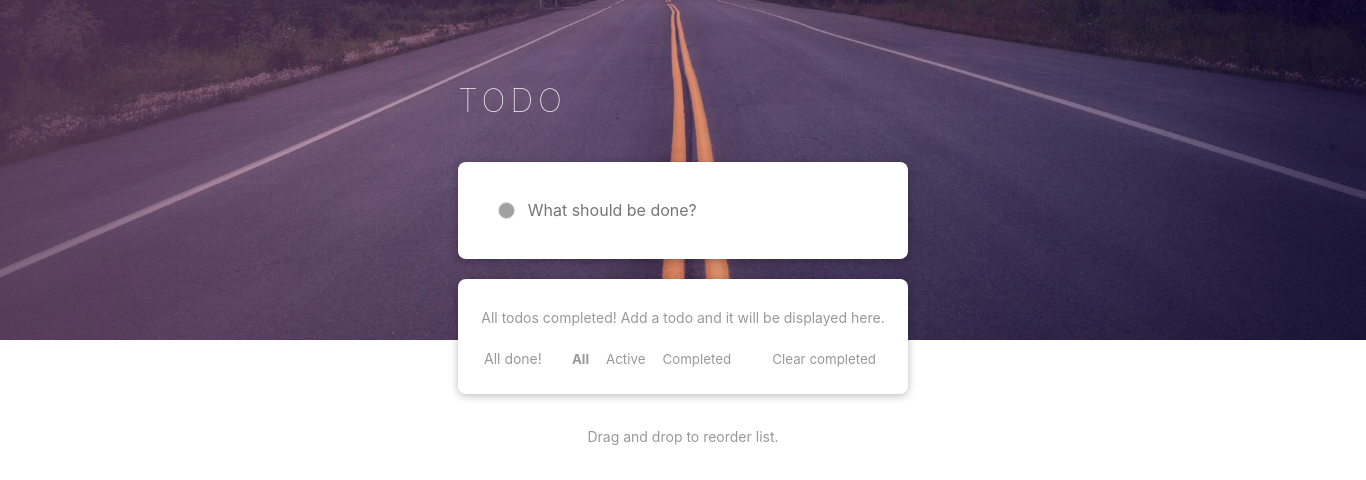
Scenario: create todo spec › should create a todo
Type "First Todo" into the field named "todo-input" at [698, 211], box [525,198,870,223]
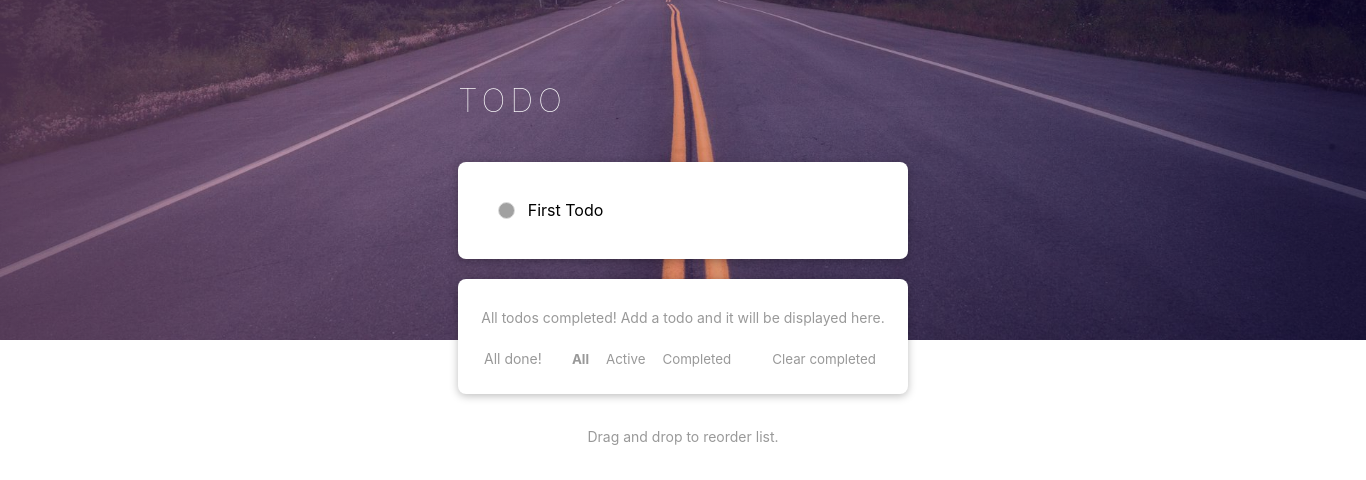
Submit the form, box [498,198,870,223]
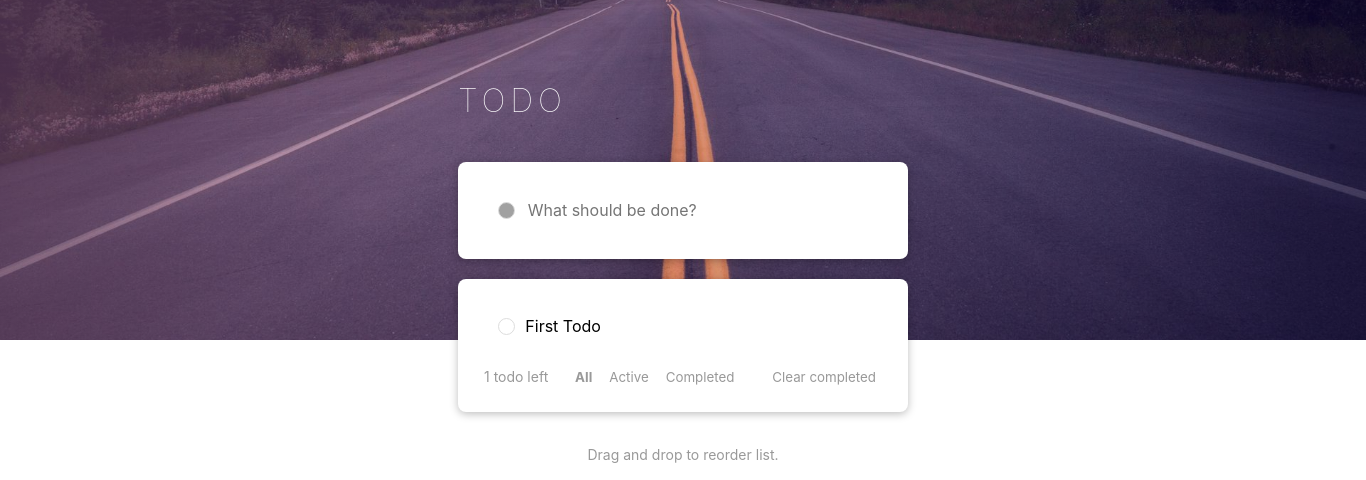
Result: the text "First Todo" is shown at [494,315,601,338]
